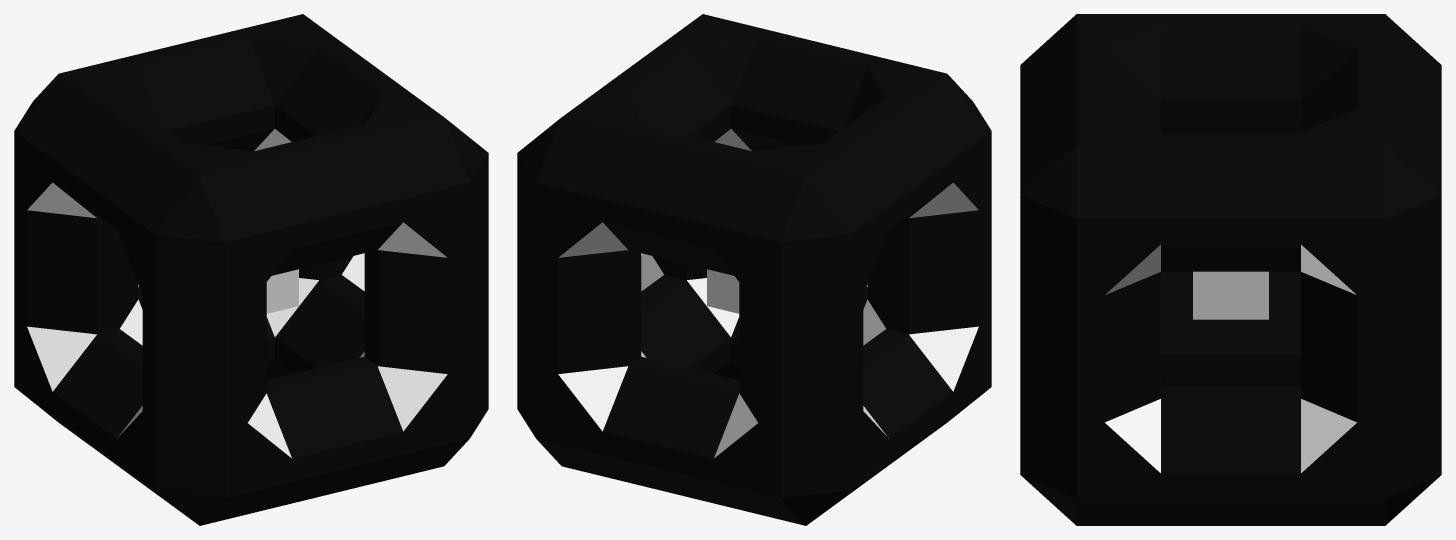
File: Tron Pickup Cube.FBX
3 renders of one model, left to right at view 1: azimuth 30°, elevation 25°; view 2: azimuth 150°, elevation 25°; view 3: azimuth 270°, elevation 25°, orthographic. The views are drawn at different scales.
Parts seen in each view (by area): view 1: Box001, Box002; view 2: Box001, Box002; view 3: Box001, Box002.
Part boxes in pixels (x1,y1,x2,y2): Box001: (14,14,488,525); Box002: (266,269,298,313); Box001: (517,14,991,525); Box002: (707,269,739,313); Box001: (1020,14,1441,525); Box002: (1193,271,1268,319).
Size of the model in its own units: 40 by 40 by 40.
